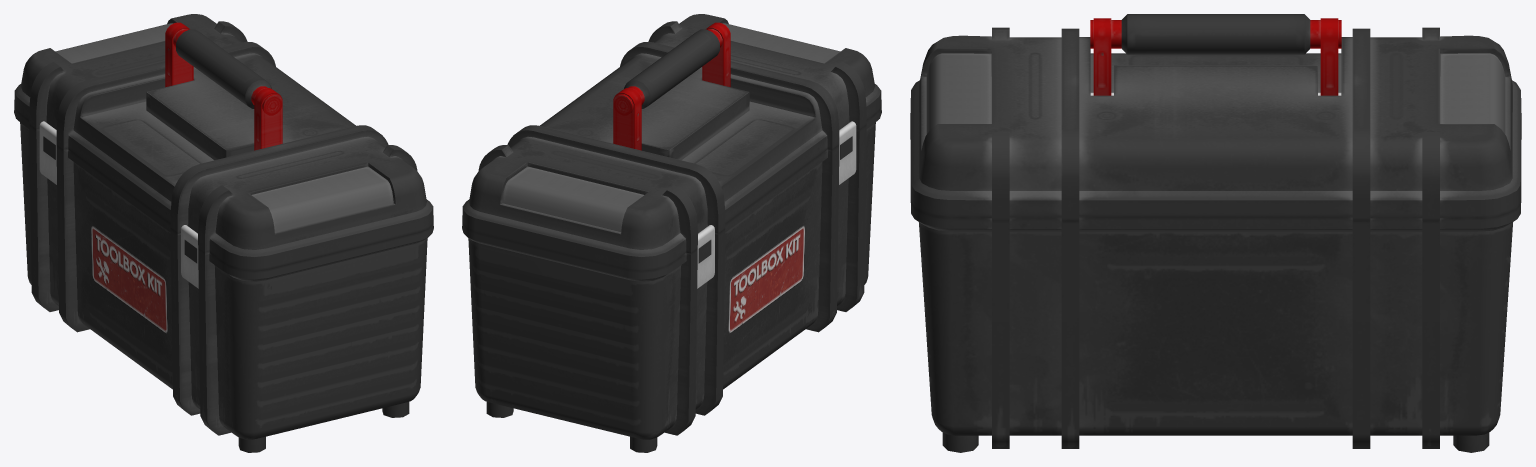
The model's file is SM_Toolbox.fbx.
3 views of the same model, side by side, from view 1: azimuth 30°, elevation 25°; view 2: azimuth 150°, elevation 25°; view 3: azimuth 270°, elevation 25° (orthographic). The views are drawn at different scales.
Parts seen in each view (by area): view 1: SM_Toolbox_LOD0; view 2: SM_Toolbox_LOD0; view 3: SM_Toolbox_LOD0.
Part boxes in pixels (x1,y1,x2,y2): SM_Toolbox_LOD0: (14, 14, 433, 452); SM_Toolbox_LOD0: (462, 14, 881, 452); SM_Toolbox_LOD0: (910, 14, 1521, 452).
Bounding box in the file's own units: 36.06 × 69.96 × 48.6.
